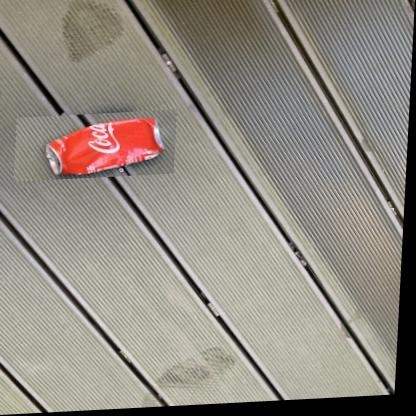trash: (46, 118, 163, 175)
